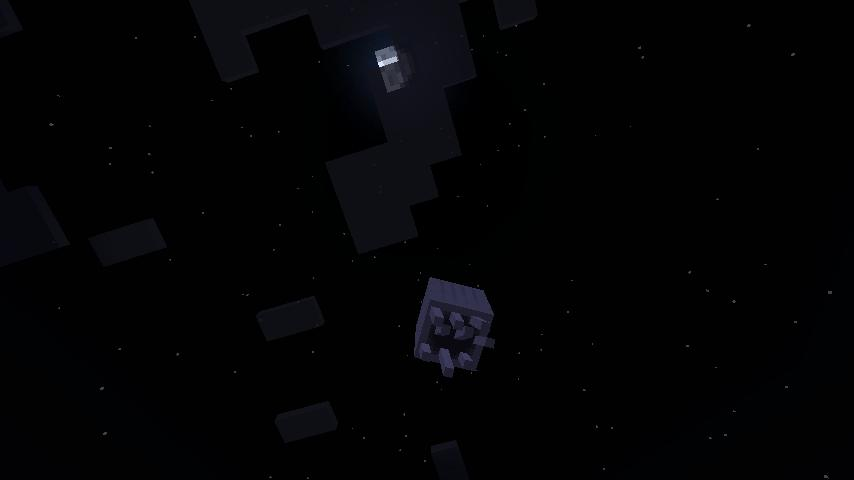ghast: (411, 275, 495, 381)
